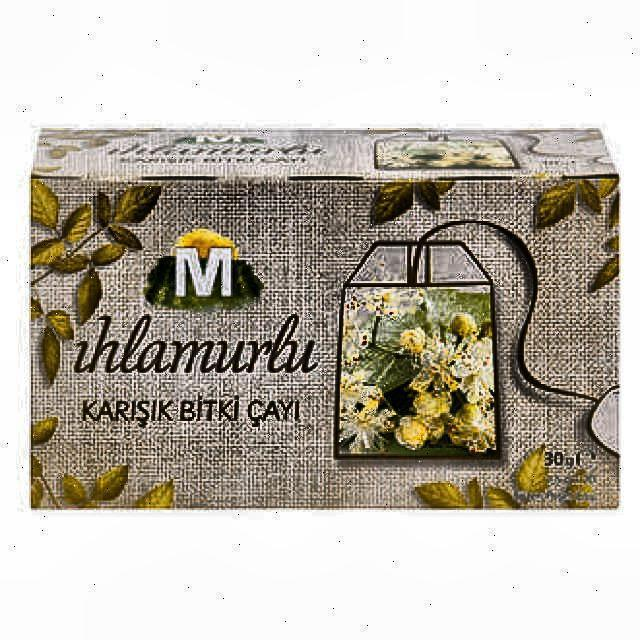cardboard: (29, 124, 620, 513)
